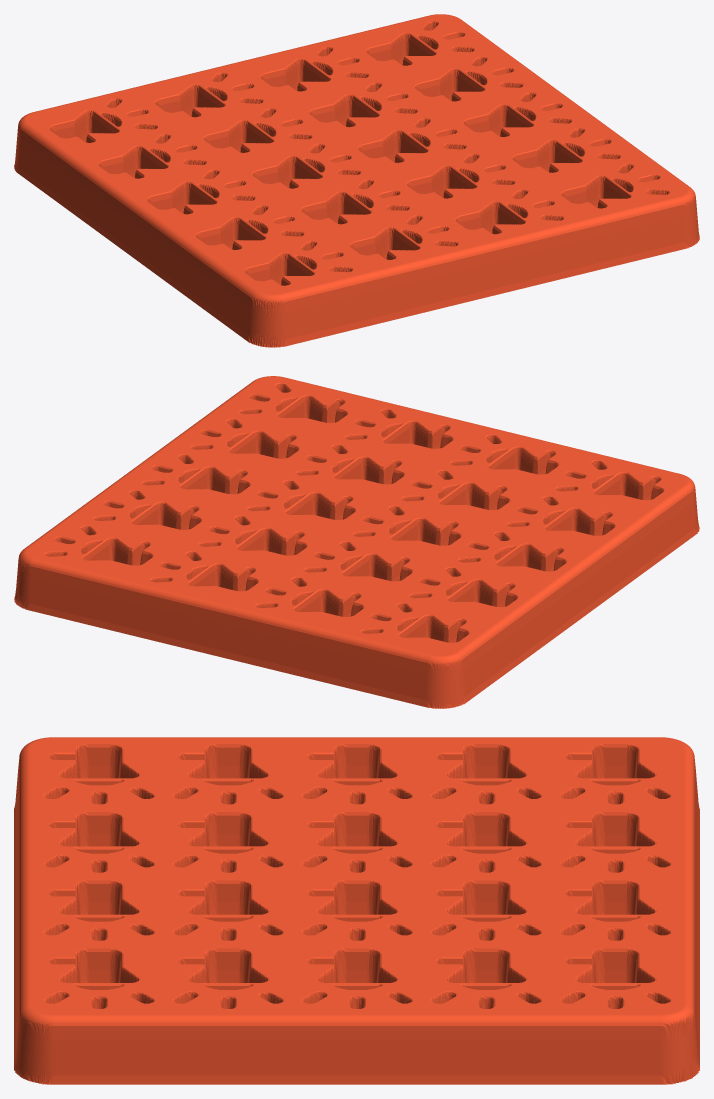
Rendered from mold.glb.
3 views of the same model, one above another, from view 1: azimuth 30°, elevation 25°; view 2: azimuth 150°, elevation 25°; view 3: azimuth 270°, elevation 25° (orthographic). The views are drawn at different scales.
Visible parts, largest first — view 1: geometry_0; view 2: geometry_0; view 3: geometry_0.
Part boxes in pixels (<box>): geometry_0: <box>14,14,699,347</box>; geometry_0: <box>14,376,699,708</box>; geometry_0: <box>14,737,699,1084</box>.
Bounding box in the file's own units: 0.1563 × 0.0159 × 0.1563.
